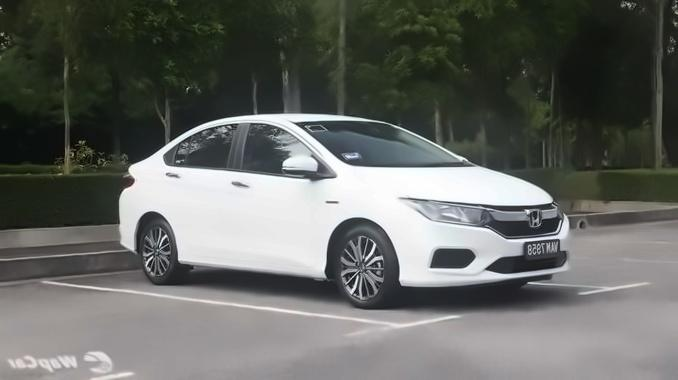Car hood: (349, 158, 550, 206)
Driver-s door - -F-R-: (223, 109, 332, 284)
Fender - -F-R-: (316, 159, 403, 276)
Fender - -R-R-: (123, 134, 179, 232)
Front bumper: (372, 214, 574, 291)
Headlight - -R-: (402, 194, 491, 231)
Passenger-s door - -R-R-: (154, 109, 239, 274)
Rear bumper: (113, 193, 142, 257)
Rear light - -R-: (119, 163, 136, 196)
Side bumper - -R-: (174, 243, 331, 287)
Side mirror - -R-: (277, 151, 329, 180)
